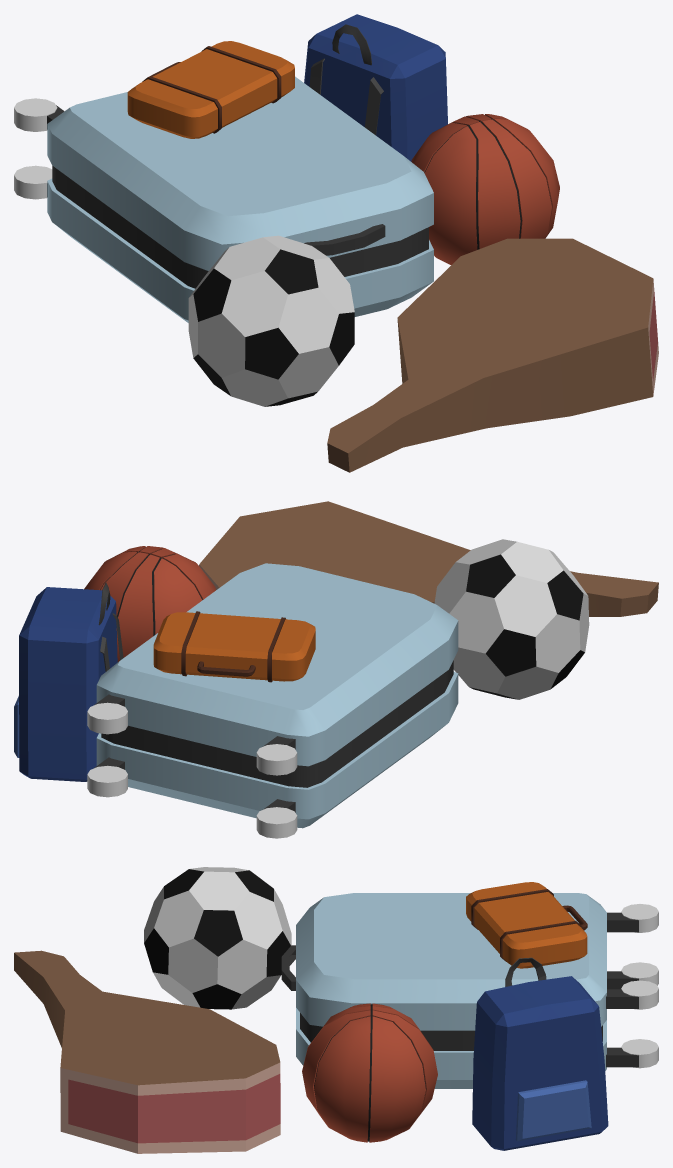
Rendered from Groupe_Bagage_5.fbx.
The picture shows the model from 3 angles, top to bottom: view 1: azimuth 30°, elevation 25°; view 2: azimuth 150°, elevation 25°; view 3: azimuth 270°, elevation 25°; orthographic projection. The views are drawn at different scales.
Visible parts, largest first — view 1: Groupe_Bagage_5; view 2: Groupe_Bagage_5; view 3: Groupe_Bagage_5.
Boxes of the visible parts, <box> form: Groupe_Bagage_5: <box>14,14,658,472</box>; Groupe_Bagage_5: <box>14,501,658,838</box>; Groupe_Bagage_5: <box>14,867,658,1153</box>.
Size of the model in its own units: 160 by 68.53 by 235.
Materials: 1 (1 with a texture image).
